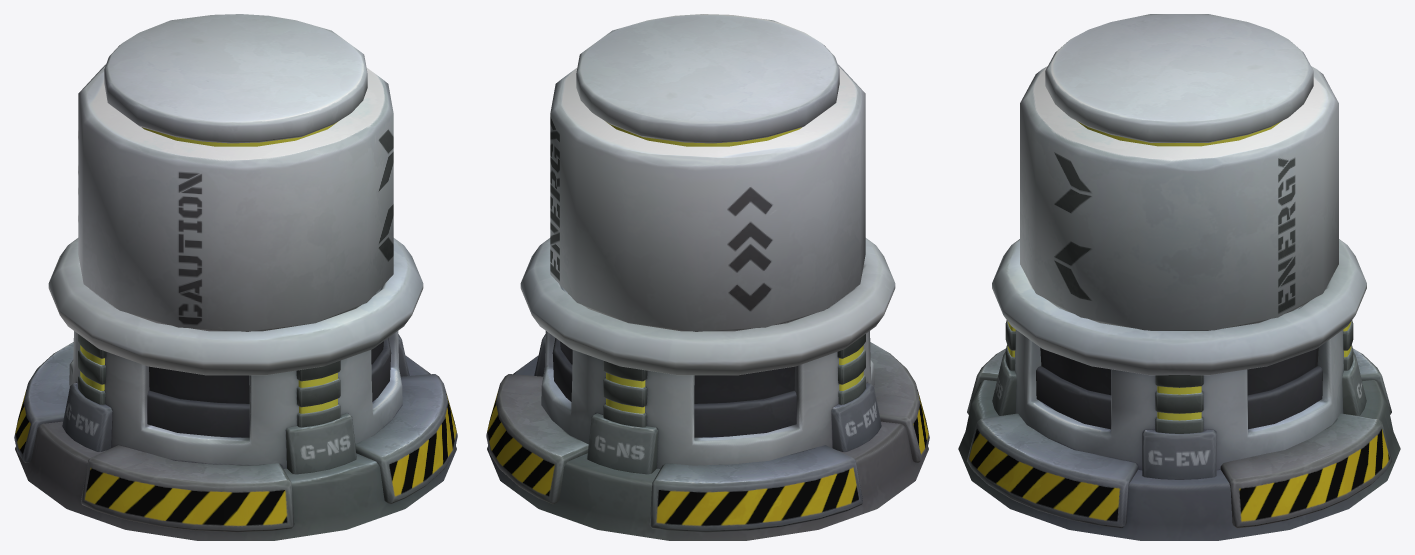
The model's file is SM_TowerDefense_SciFi_Lv2.fbx.
The picture shows the model from 3 angles, left to right: view 1: azimuth 30°, elevation 25°; view 2: azimuth 150°, elevation 25°; view 3: azimuth 270°, elevation 25°; orthographic projection.
Parts seen in each view (by area): view 1: SM_TowerDefense_SciFi_Lv2; view 2: SM_TowerDefense_SciFi_Lv2; view 3: SM_TowerDefense_SciFi_Lv2.
Boxes of the visible parts, <box> form: SM_TowerDefense_SciFi_Lv2: <box>14,14,457,540</box>; SM_TowerDefense_SciFi_Lv2: <box>486,14,929,540</box>; SM_TowerDefense_SciFi_Lv2: <box>958,14,1400,540</box>.
Bounding box in the file's own units: 982 × 948 × 998.
